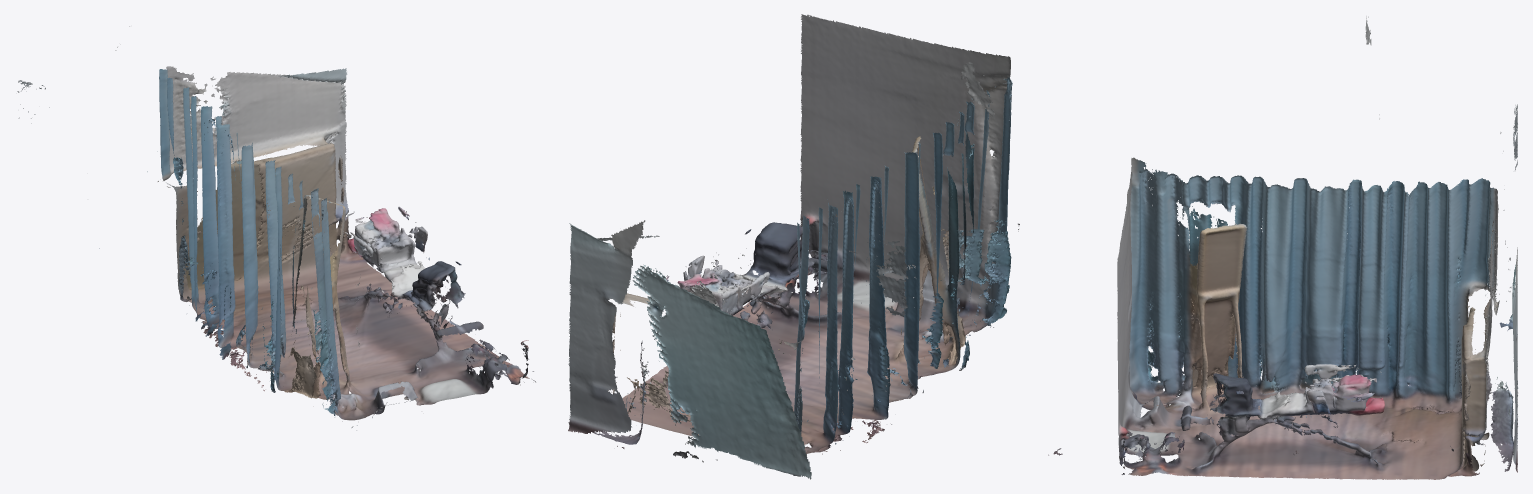
Rendered from apartment-detail-1-1a65d097f08c.glb.
The picture shows the model from 3 angles, left to right: view 1: azimuth 30°, elevation 25°; view 2: azimuth 150°, elevation 25°; view 3: azimuth 270°, elevation 25°; orthographic projection. The views are drawn at different scales.
Bounding box in the file's own units: 2.91 × 3.24 × 3.72.
